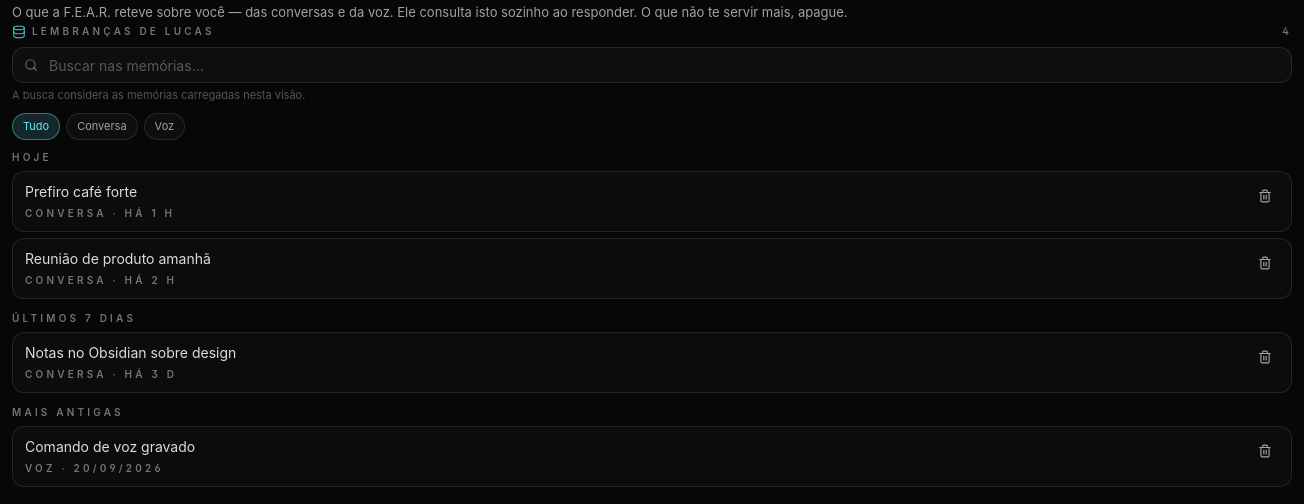
Test case: MemoryTab — search, filters, grouping › filters by source when a chip is selected
Expected: the text "Prefiro café forte" is shown, x1=25 y1=182 x2=137 y2=200
Click the button "Voz" at (164, 126), box x1=144 y1=113 x2=185 y2=140
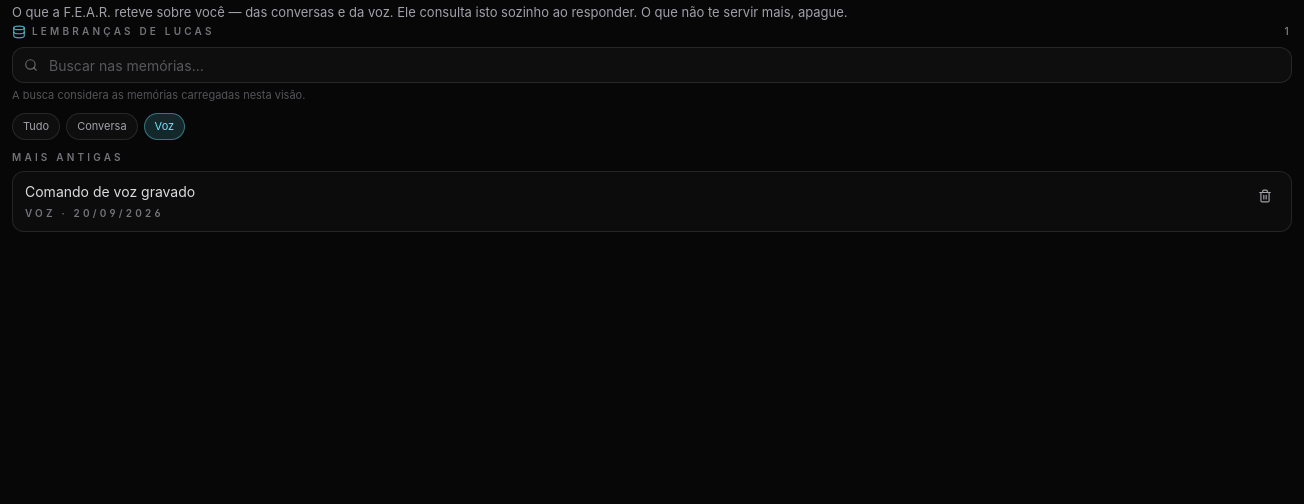
Expected: the text "Comando de voz gravado" is shown, x1=25 y1=182 x2=195 y2=200
Expected: the text "Prefiro café forte" is gone
Expected: the text "Reunião de produto amanhã" is gone
